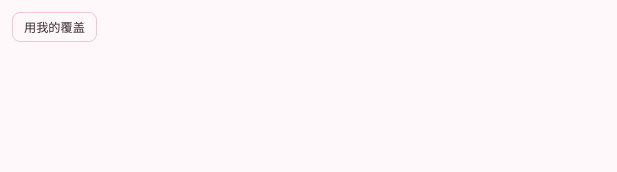
Test: CanvasBeefConflictActions › says what an overwrite replaces and saves against that version
Later steps or results of the test are not shown.
Click the button "用我的覆盖": [54, 27] box [12,12,97,42]
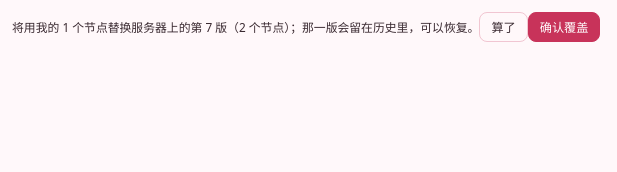
Check: the element "确认覆盖" shows "将用我的 1 个节点替换服务器上的第 7 版（2 个节点）", box [12,19,479,35]
